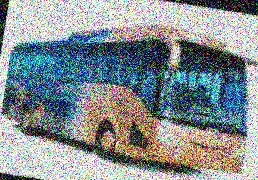bus: (0, 5, 258, 180)
